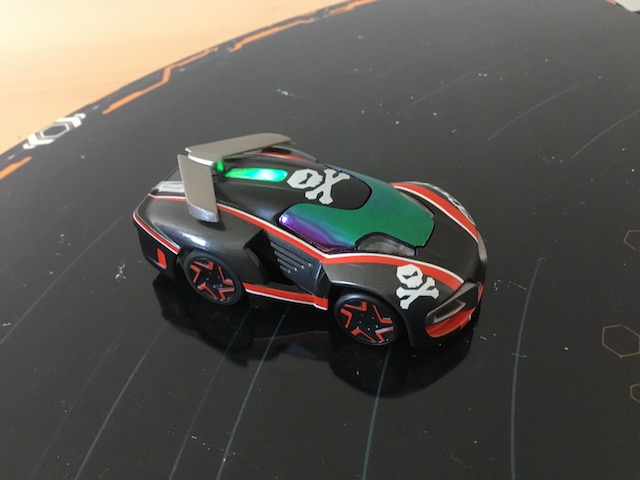car-red: (128, 126, 492, 363)
